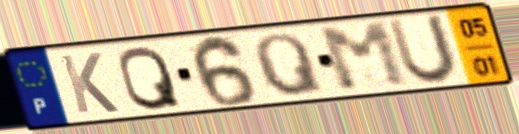6: (188, 32, 261, 109)
K: (56, 50, 122, 116)
M: (314, 19, 414, 95)
Q: (251, 31, 329, 98), (116, 43, 185, 113)
U: (383, 11, 462, 87)
